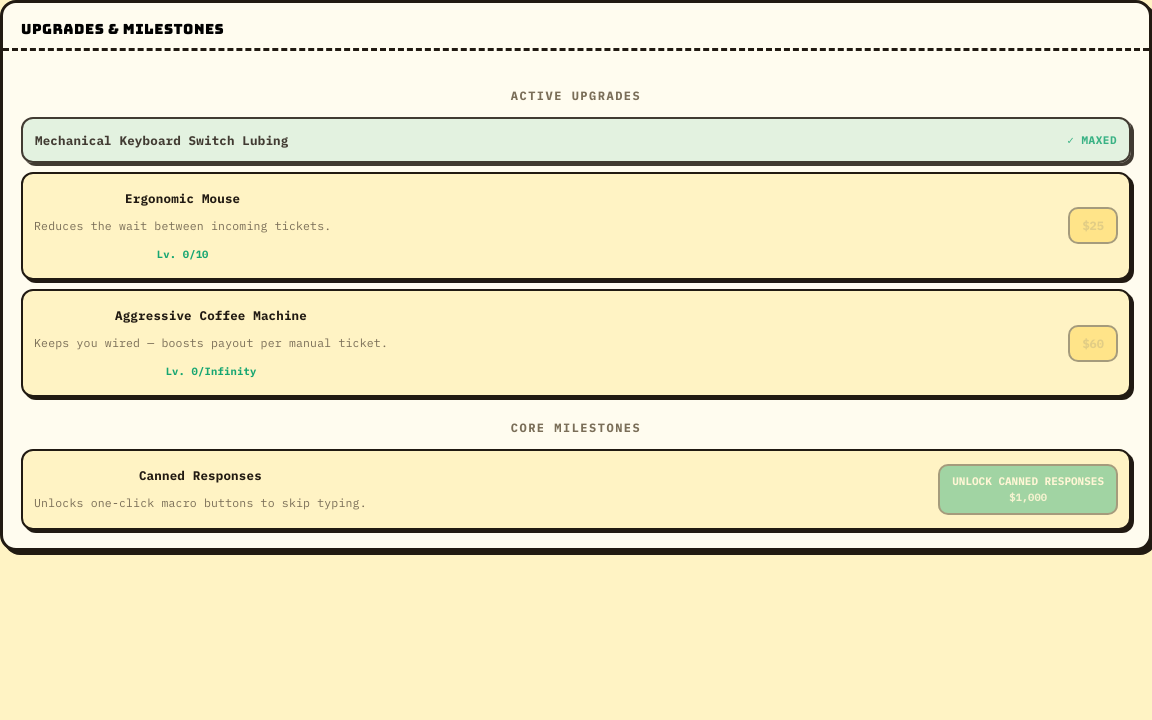
maxed upgrades › expand to show their description when clicked
Click the text "Mechanical Keyboard Switch Lubing". click: {"x": 162, "y": 140}
box: [35,127,288,153]
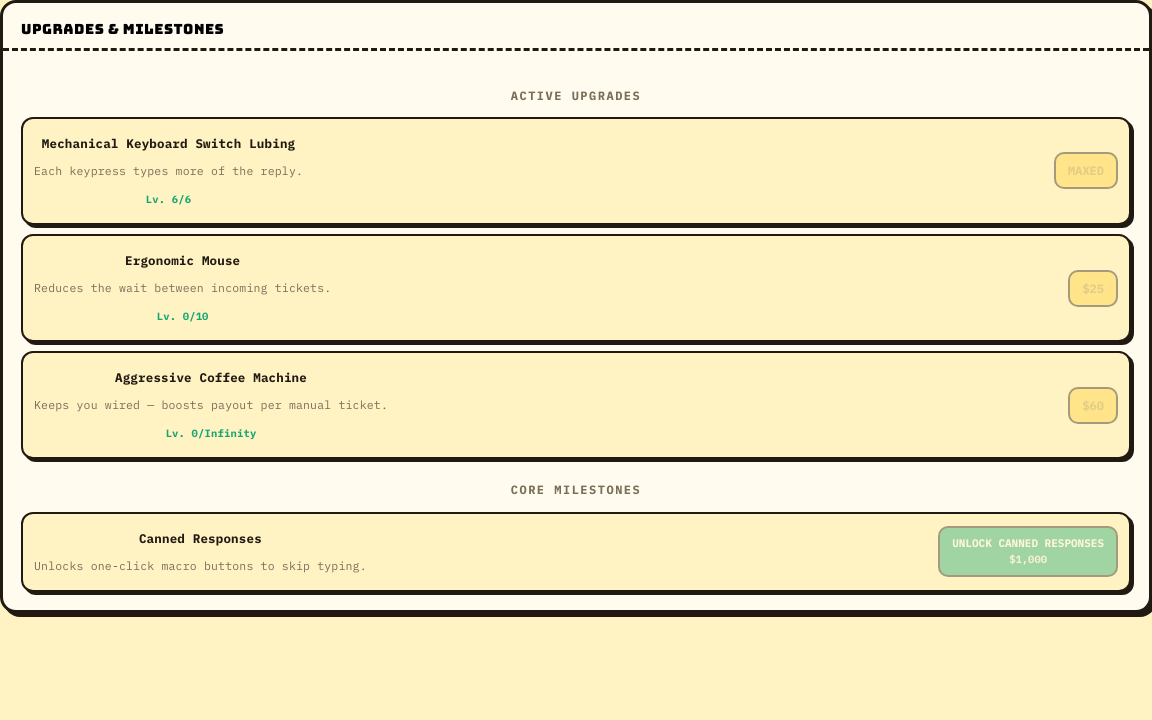
Expected: the text "Each keypress types more of the reply." is shown, [34,163,303,178]
